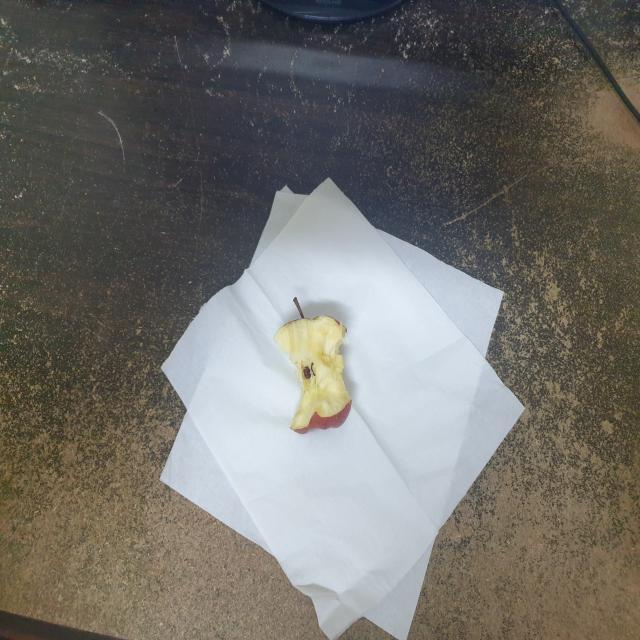apple: (270, 289, 362, 445)
